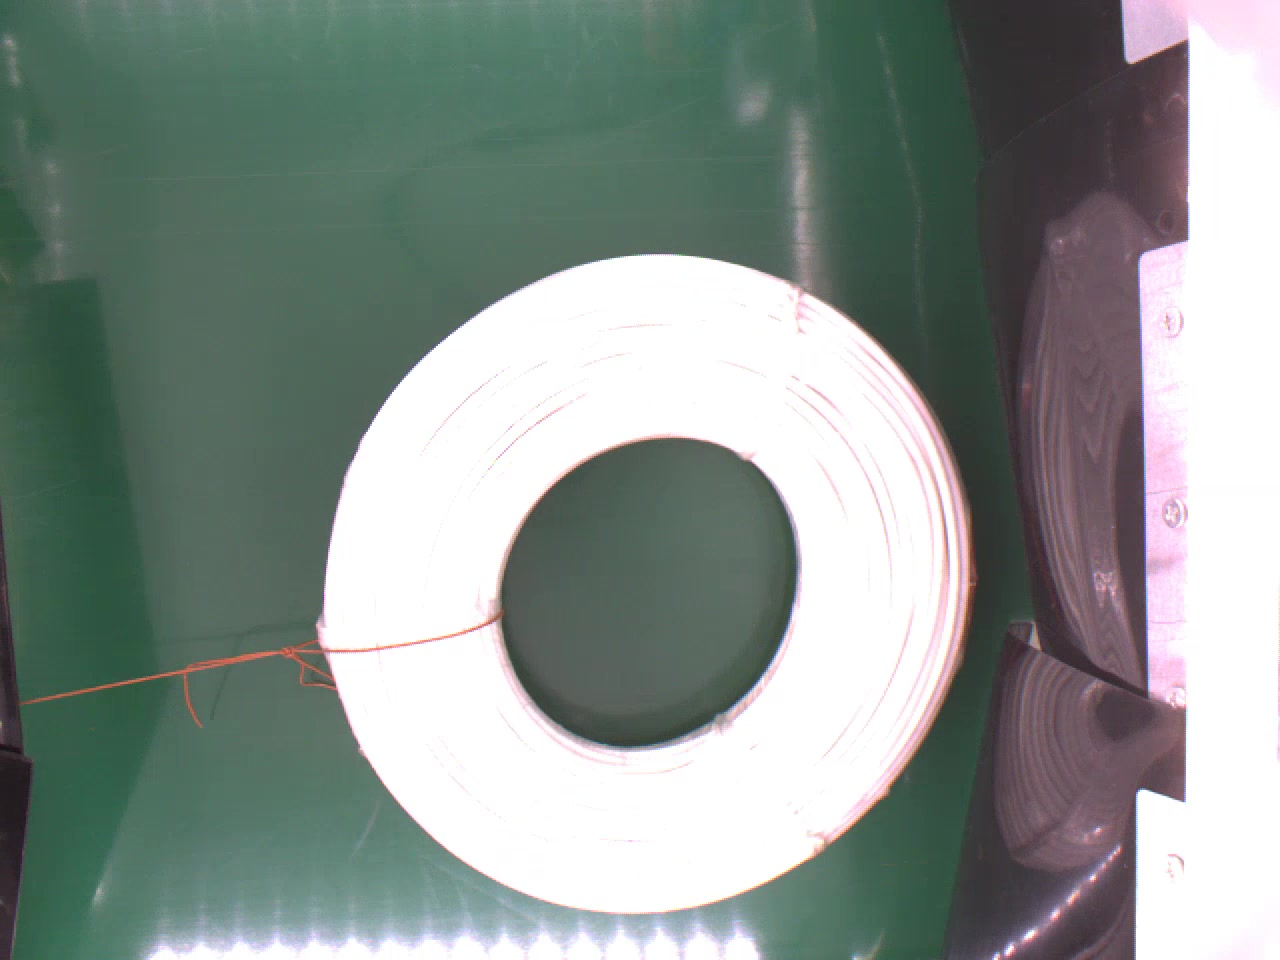white: (314, 242, 995, 914)
